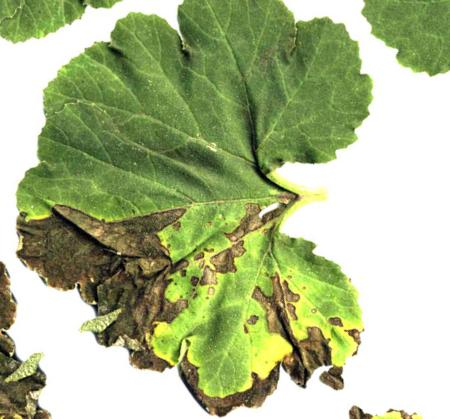Tomato leaf bacterial spot: (0, 87, 393, 419)
